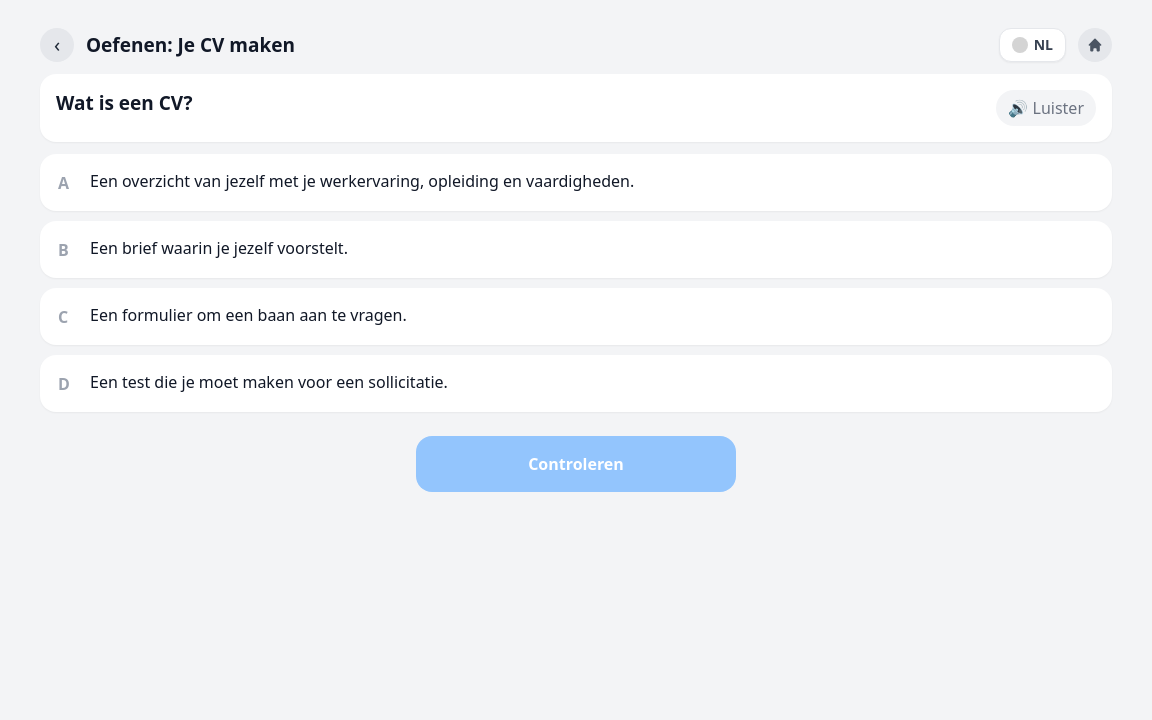
selecting correct answer (A) shows positive feedback
This screenshot has width=1152, height=720.
What coordinates should you click on to do the following:
click the text "Een overzicht van jezelf"
I would click on:
 (362, 181)
Its box is x1=90 y1=170 x2=634 y2=192.
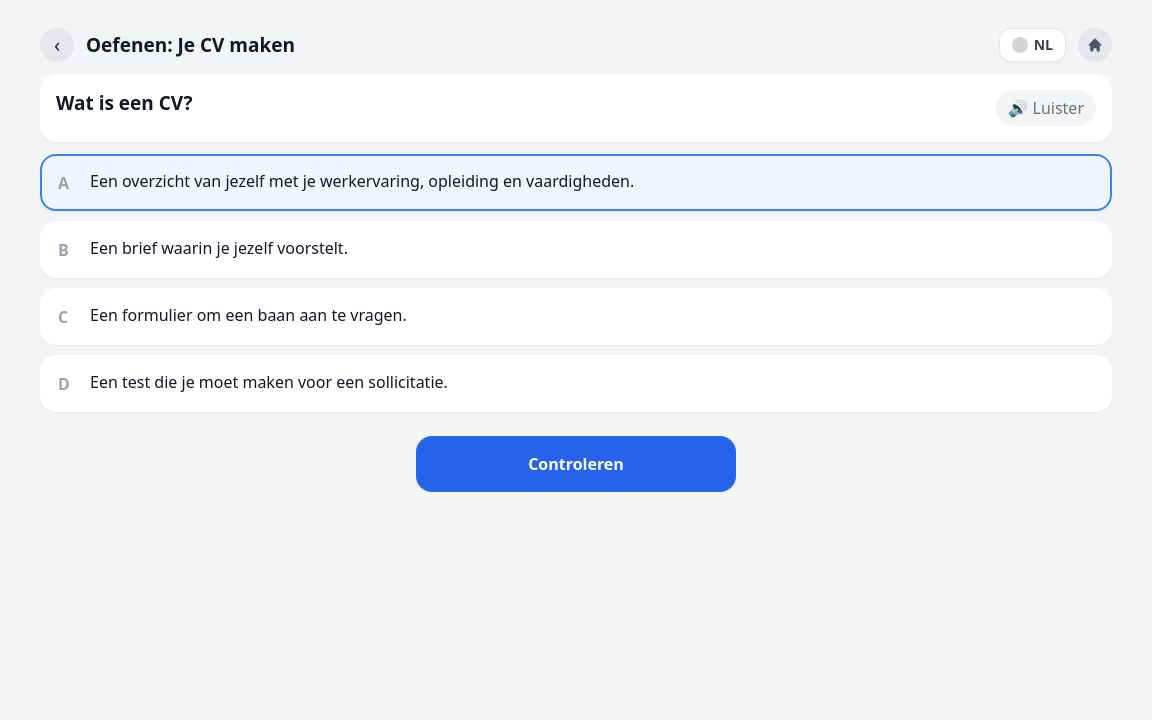
What coordinates should you click on to do the following:
click the button "Controleren"
I would click on:
 (576, 464)
Its box is x1=416 y1=436 x2=736 y2=492.
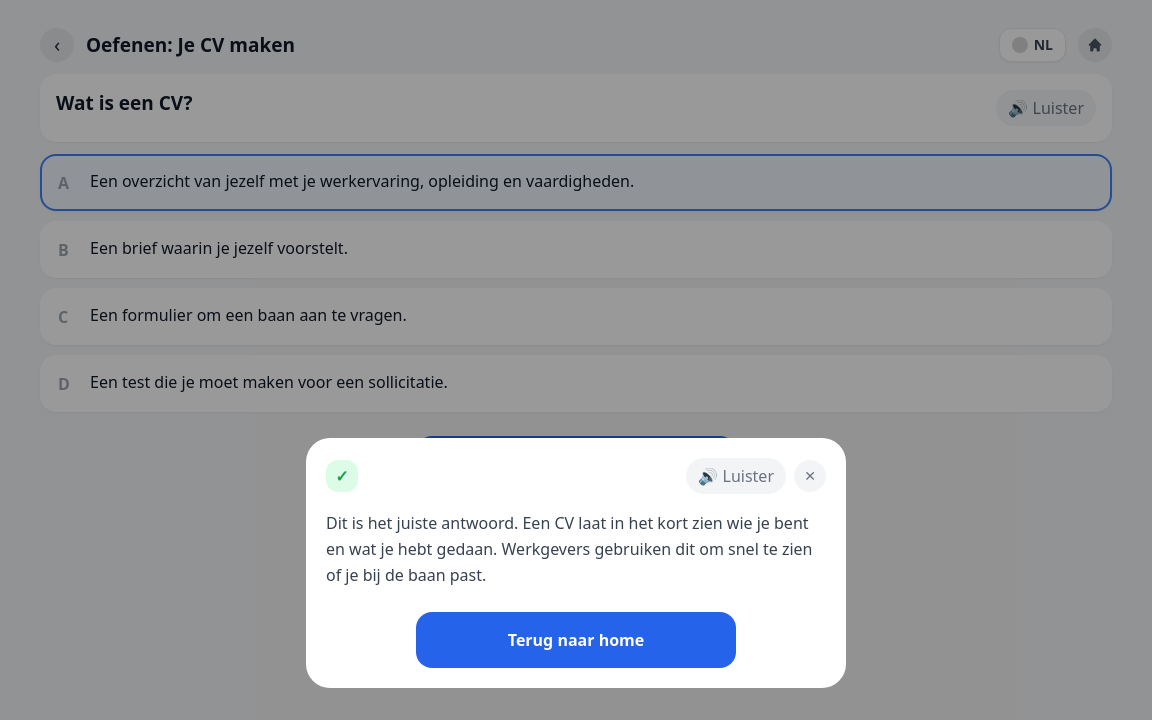
expect the text "✓" is shown: met, box x1=326 y1=460 x2=358 y2=492
expect the text "Dit is het juiste antwoord" is shown: met, box x1=326 y1=512 x2=812 y2=586
